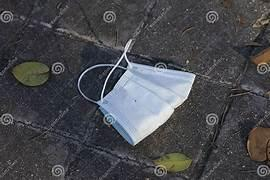Mask: (78, 40, 194, 144)
